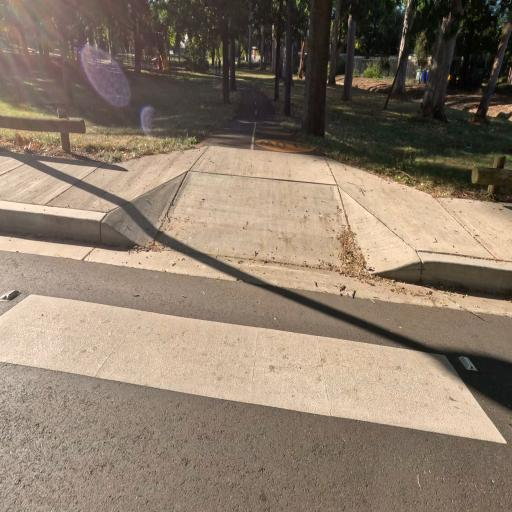kerb_cut: (145, 172, 364, 299)
